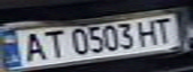0: (66, 26, 90, 56), (103, 22, 124, 52)
3: (115, 20, 139, 50)
5: (87, 24, 106, 54)
A: (15, 29, 48, 63)
H: (133, 17, 163, 47)
T: (36, 28, 66, 60), (148, 16, 181, 44)
